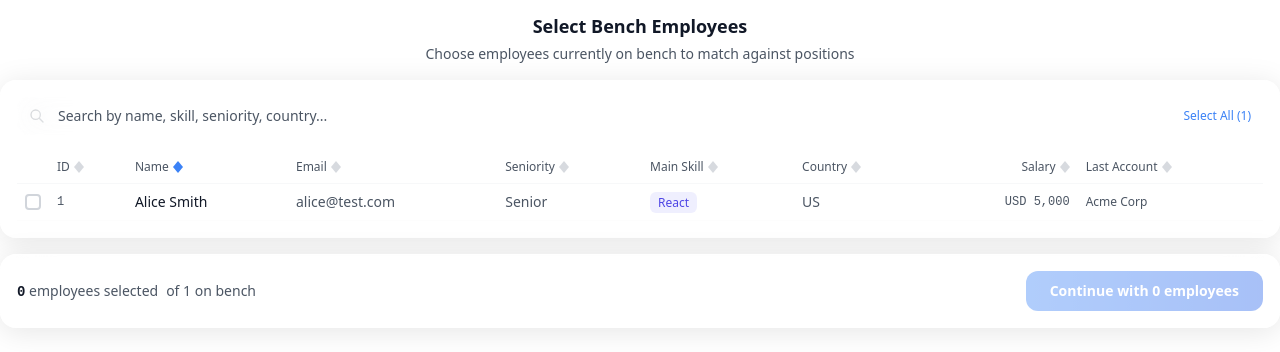
Test: BenchEmployeeSelector › should toggle employee selection on row click
Step 1. Click the text "Alice Smith" → (207, 202), box [127,184,288,220]
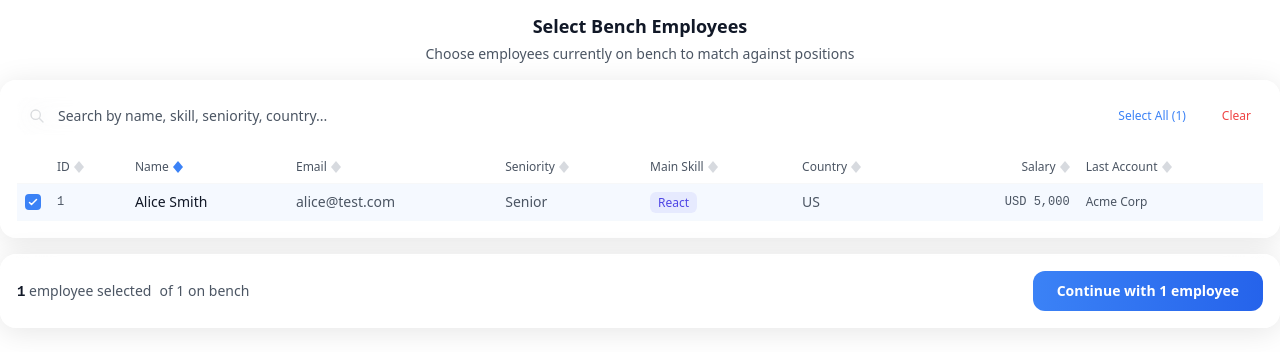
Expected: the text "selected" is shown, [93,280,151,300]
Expected: the button "Continue with 1 employee" is shown, [1033,271,1263,311]
Step 2. Click the text "Alice Smith" → (207, 202), box [127,184,288,220]
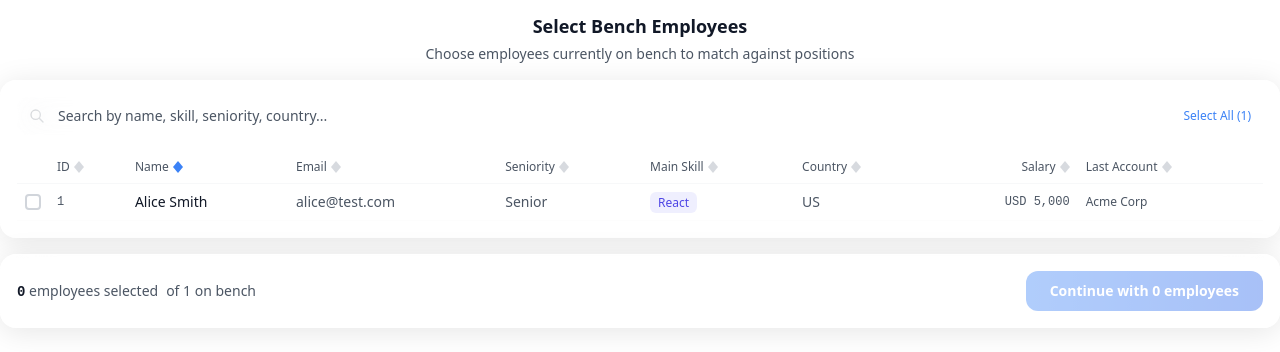
Expected: the button "Continue with 0 employees" is shown, [1026,271,1263,311]
